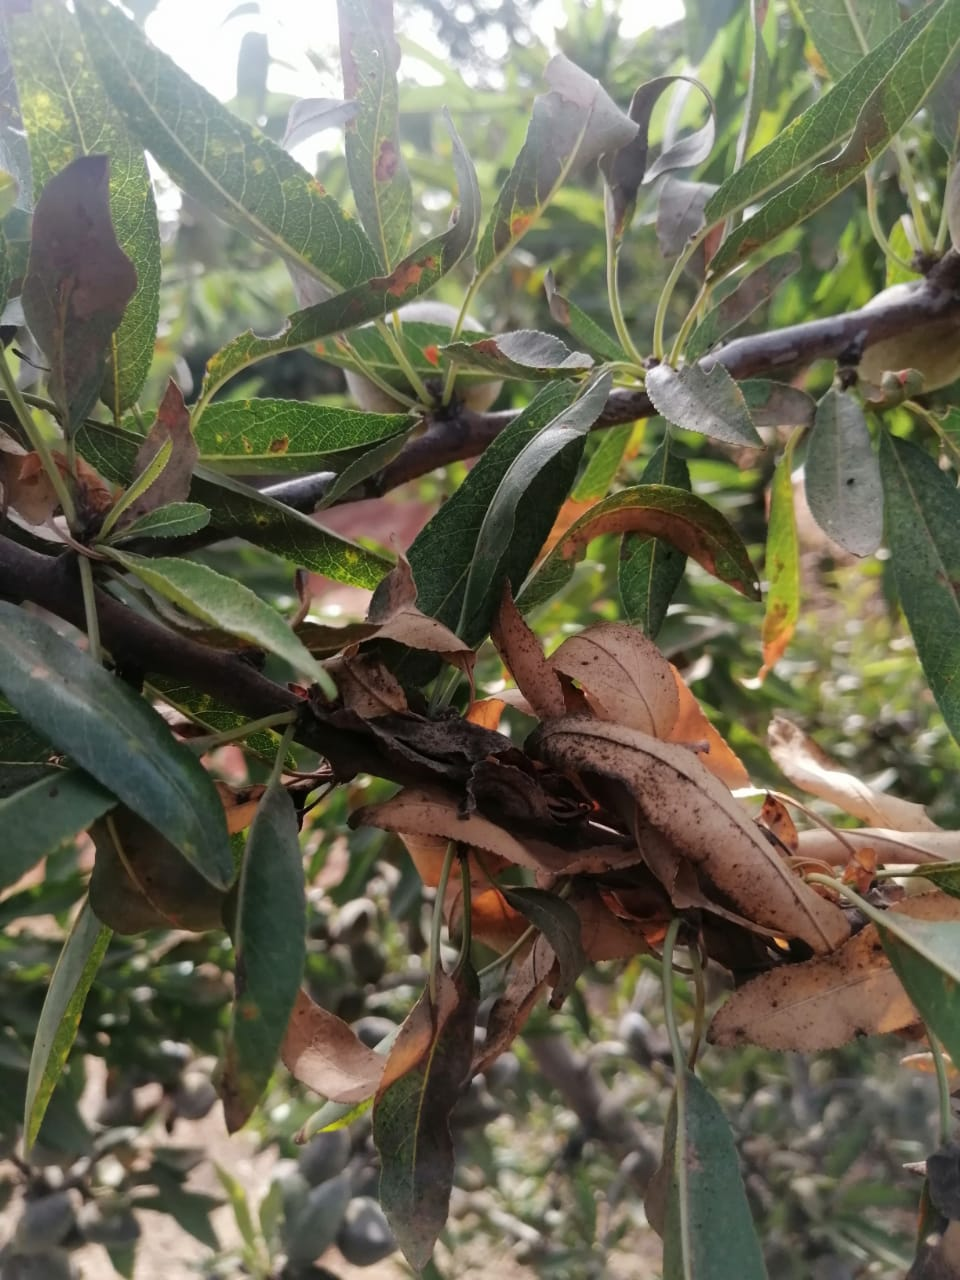scolytes: (315, 546, 911, 1053)
